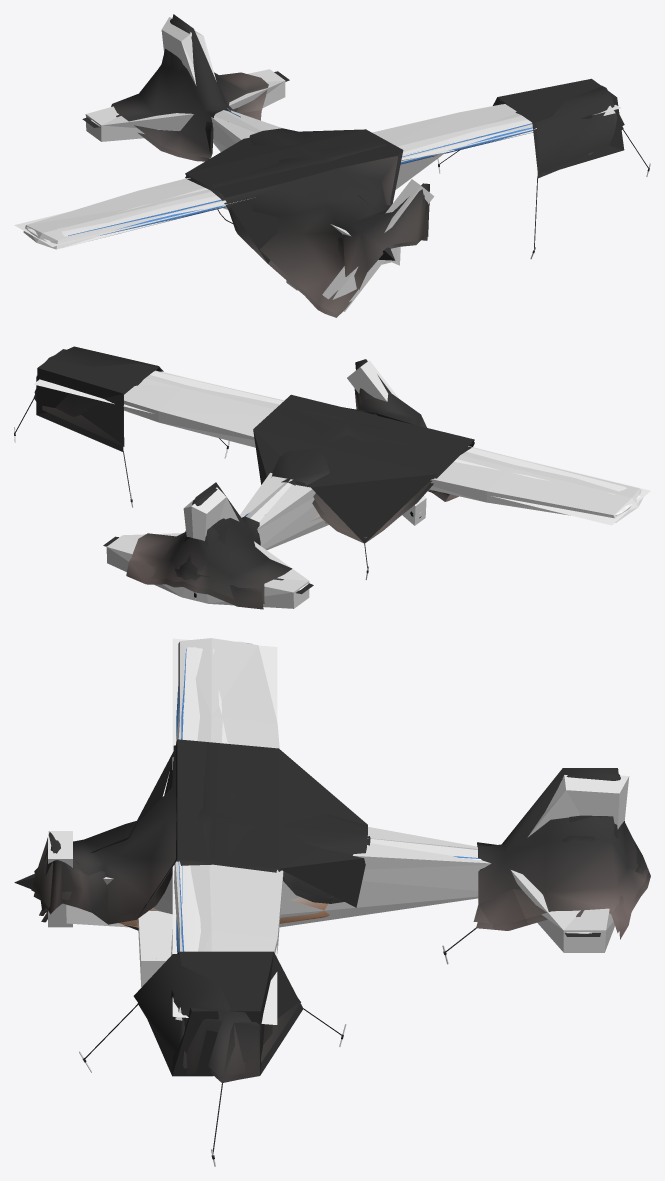
Rendered from airport_old_plane.dae.
The picture shows the model from 3 angles, top to bottom: view 1: azimuth 30°, elevation 25°; view 2: azimuth 150°, elevation 25°; view 3: azimuth 270°, elevation 25°; orthographic projection. The views are drawn at different scales.
Parts seen in each view (by area): view 1: airport_old_plane_a200, Colmesh-1, airport_old_plane_a35, airport_old_plane_a800; view 2: Colmesh-1, airport_old_plane_a35, airport_old_plane_a200, airport_old_plane_a800; view 3: airport_old_plane_a200, Colmesh-1, airport_old_plane_a35, airport_old_plane_a800.
Part boxes in pixels (box(x1,y1,x2,y2)): airport_old_plane_a200: box(27, 14, 624, 313); Colmesh-1: box(23, 17, 615, 311); airport_old_plane_a35: box(14, 71, 624, 263); airport_old_plane_a800: box(26, 18, 650, 317); Colmesh-1: box(106, 360, 643, 608); airport_old_plane_a35: box(34, 349, 650, 594); airport_old_plane_a200: box(34, 346, 640, 603); airport_old_plane_a800: box(14, 366, 639, 609); airport_old_plane_a200: box(31, 641, 648, 1076); Colmesh-1: box(48, 638, 629, 1020); airport_old_plane_a35: box(14, 638, 600, 1076); airport_old_plane_a800: box(33, 643, 650, 1166).
Bounding box in the file's own units: 13.71 × 9.04 × 3.07.
